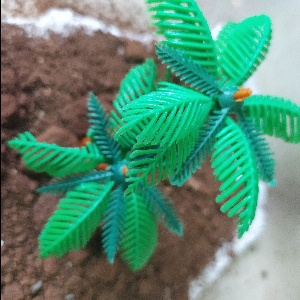plant: (26, 9, 300, 271)
